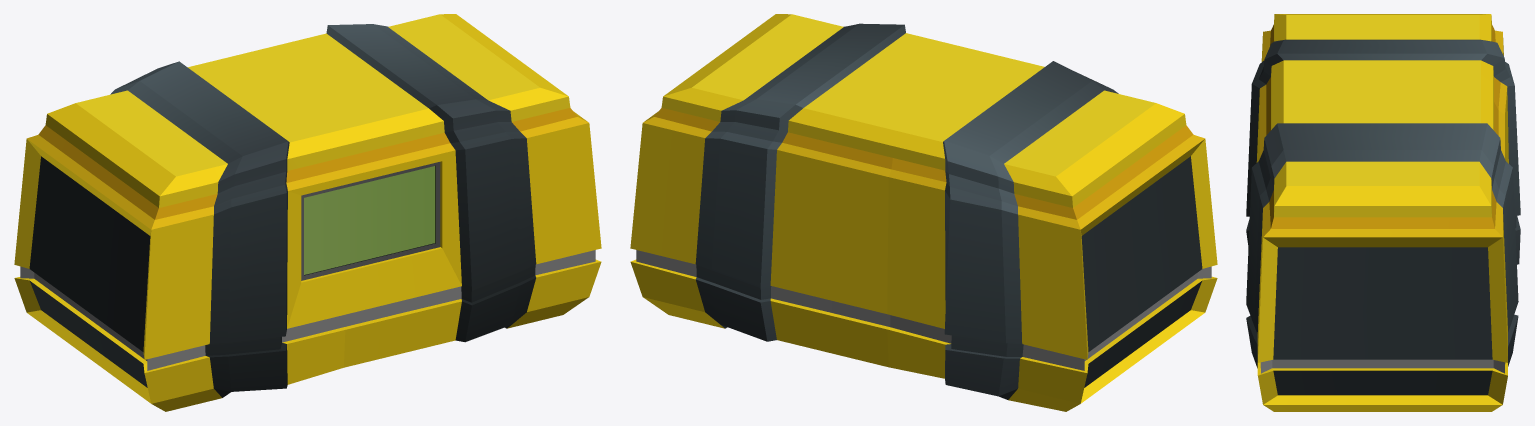
Rendered from Future Med Crate Yellow.fbx.
The picture shows the model from 3 angles, left to right: view 1: azimuth 30°, elevation 25°; view 2: azimuth 150°, elevation 25°; view 3: azimuth 270°, elevation 25°; orthographic projection. The views are drawn at different scales.
Visible parts, largest first — view 1: Future Med Crate Yellow #2; view 2: Future Med Crate Yellow #2; view 3: Future Med Crate Yellow #2.
Boxes of the visible parts, x1,y1,x2,y2 form: Future Med Crate Yellow #2: (14, 14, 601, 411); Future Med Crate Yellow #2: (630, 14, 1217, 411); Future Med Crate Yellow #2: (1246, 14, 1520, 411).
Size of the model in its own units: 272 by 294 by 543.
Materials: 1 (1 with a texture image).
